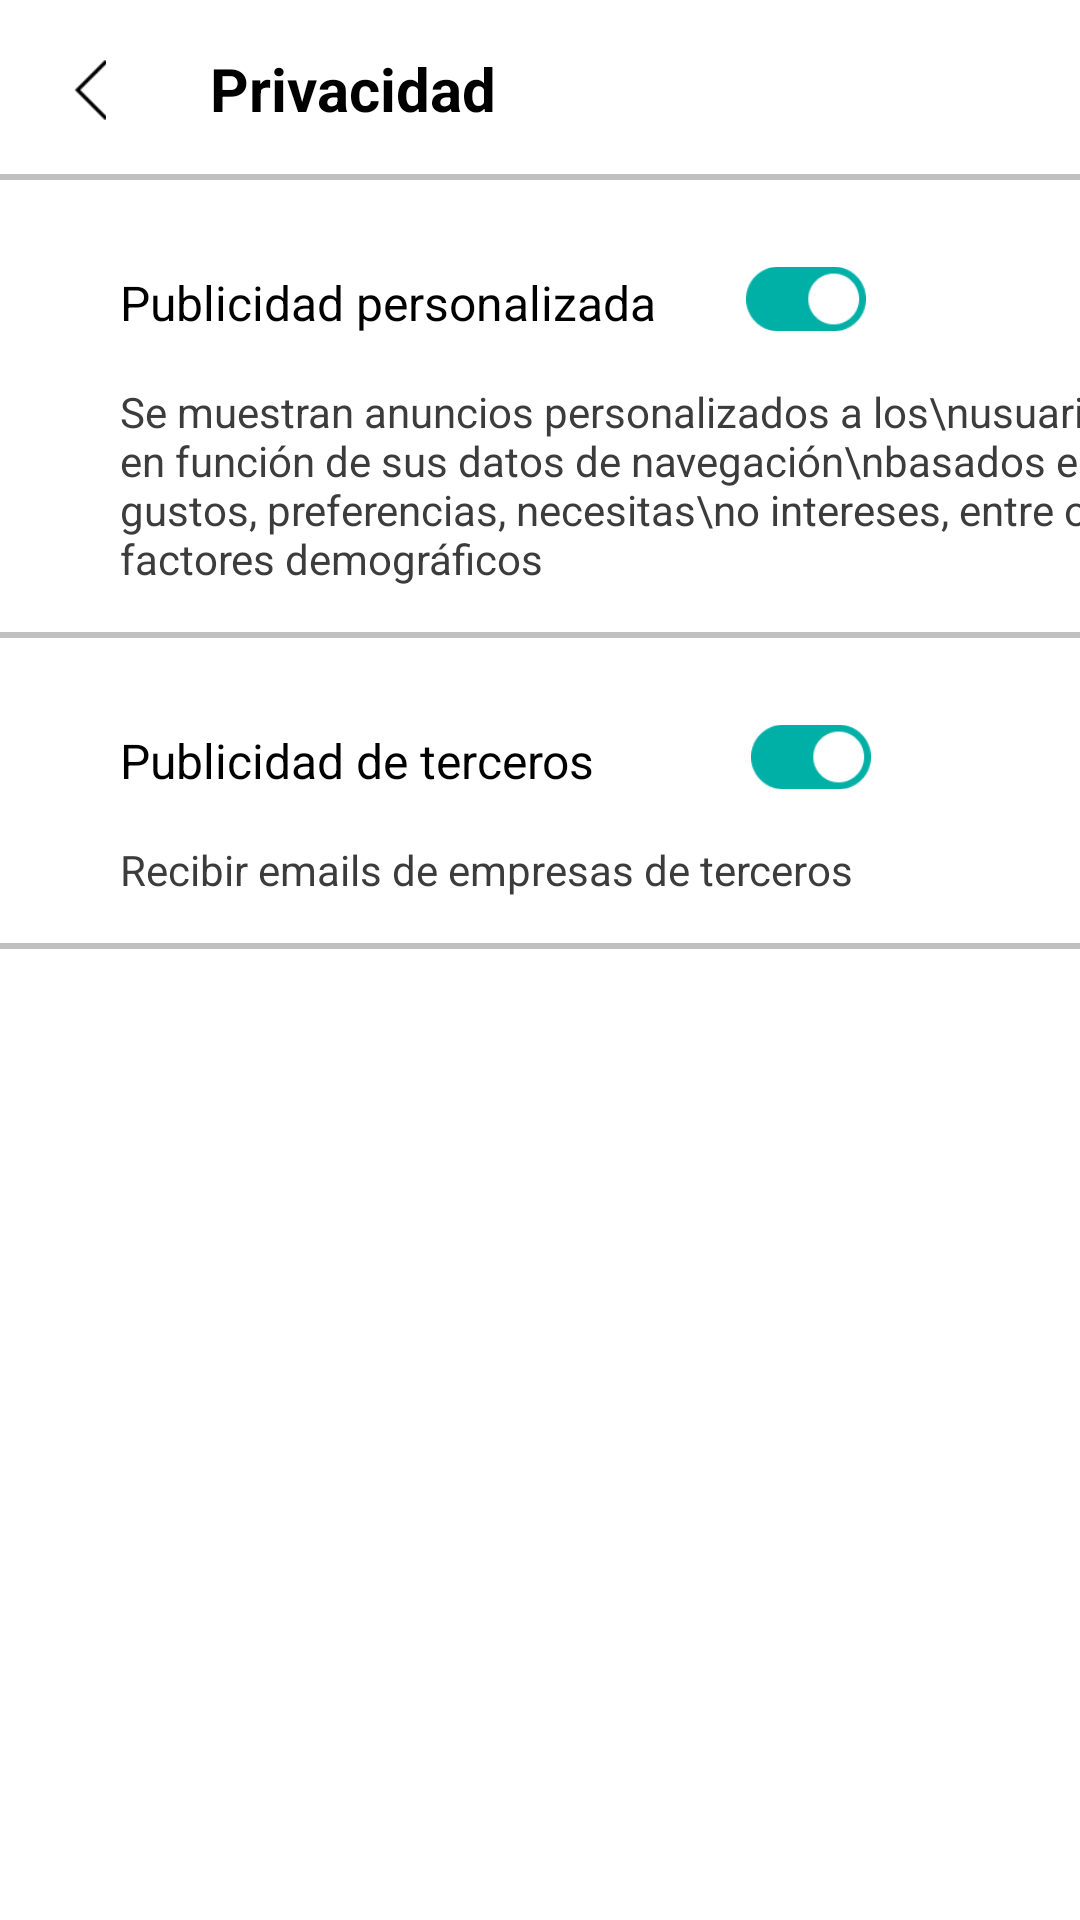

Screen size 1080 x 1920. Icon name, then its box in pixels as (x1, y1, x2, y2):
iconovolver: (75, 60, 106, 120)
switchbutton: (746, 267, 866, 331), (751, 725, 871, 789)
